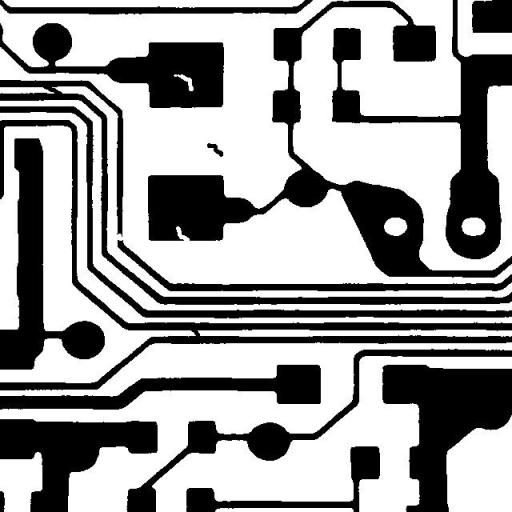copper: (200, 135, 230, 164)
mousebite: (168, 218, 197, 249)
open: (108, 226, 130, 248)
pin-hole: (166, 66, 200, 98)
short: (36, 77, 70, 104), (183, 320, 207, 345)
